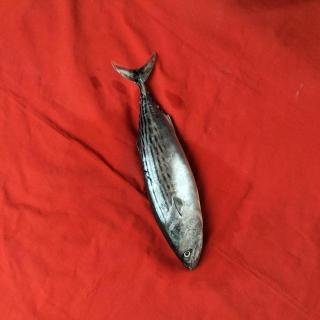Ikan: (107, 50, 217, 284)
